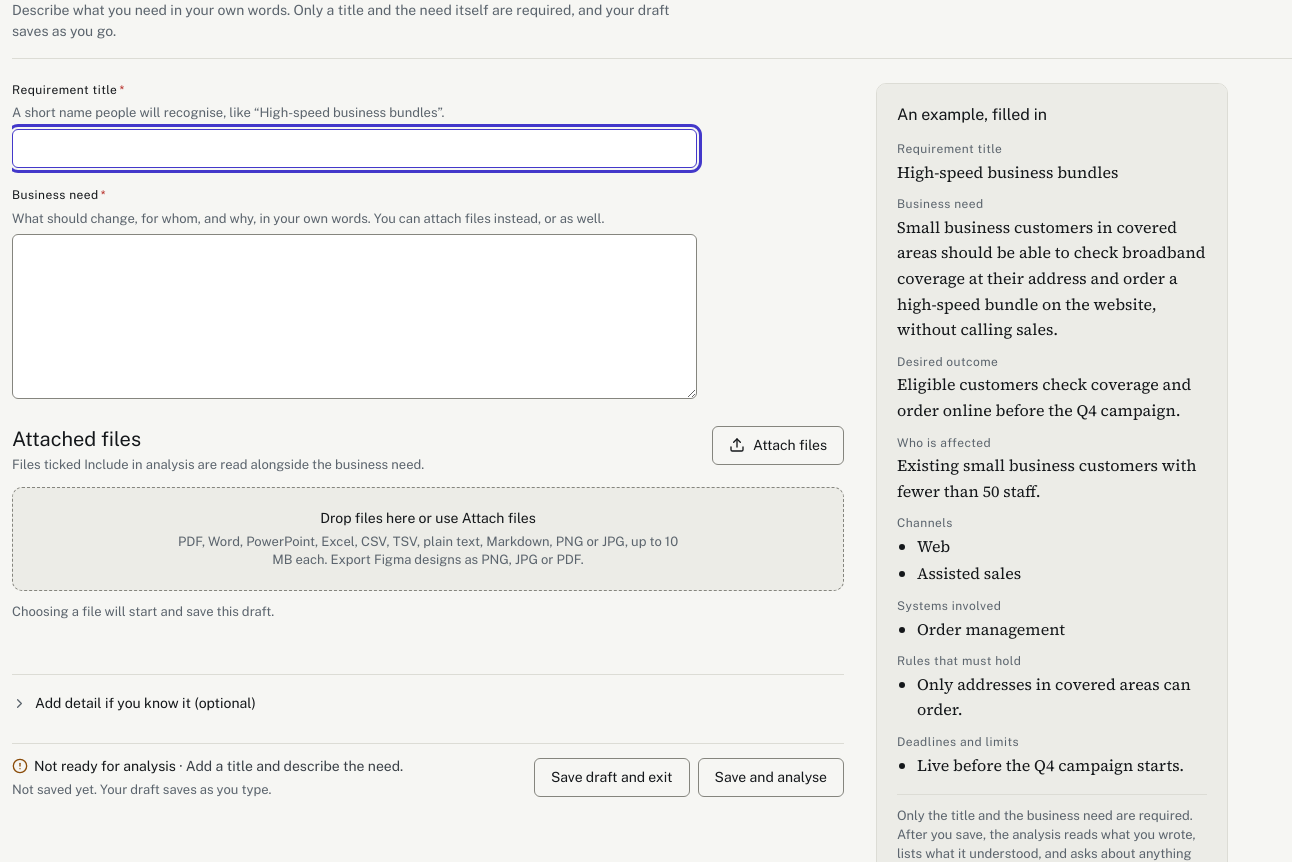
Test: NewRequirementPage › says why analysis cannot start, beside the button, and the button explains itself
This screenshot has width=1292, height=862.
Expected: the text "Not ready for analysis" shows "Add a title and describe the need.", [186, 758, 403, 774]
Click the button "Save and analyse" at (771, 778), box [698, 758, 844, 798]
(page scrolled)
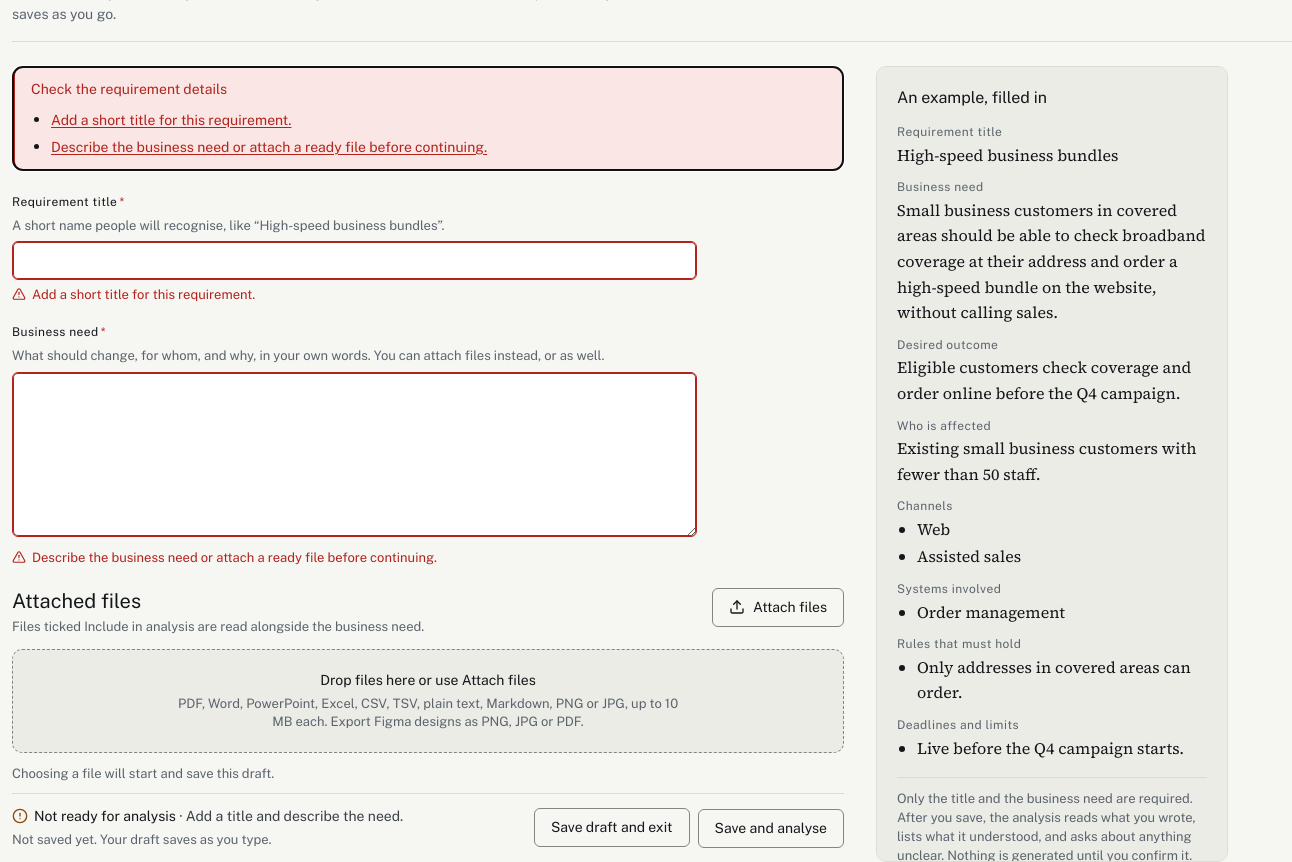
Expected: the element "Check the requirement details" shows "Add a short title for this requirement.", [51, 112, 292, 128]
